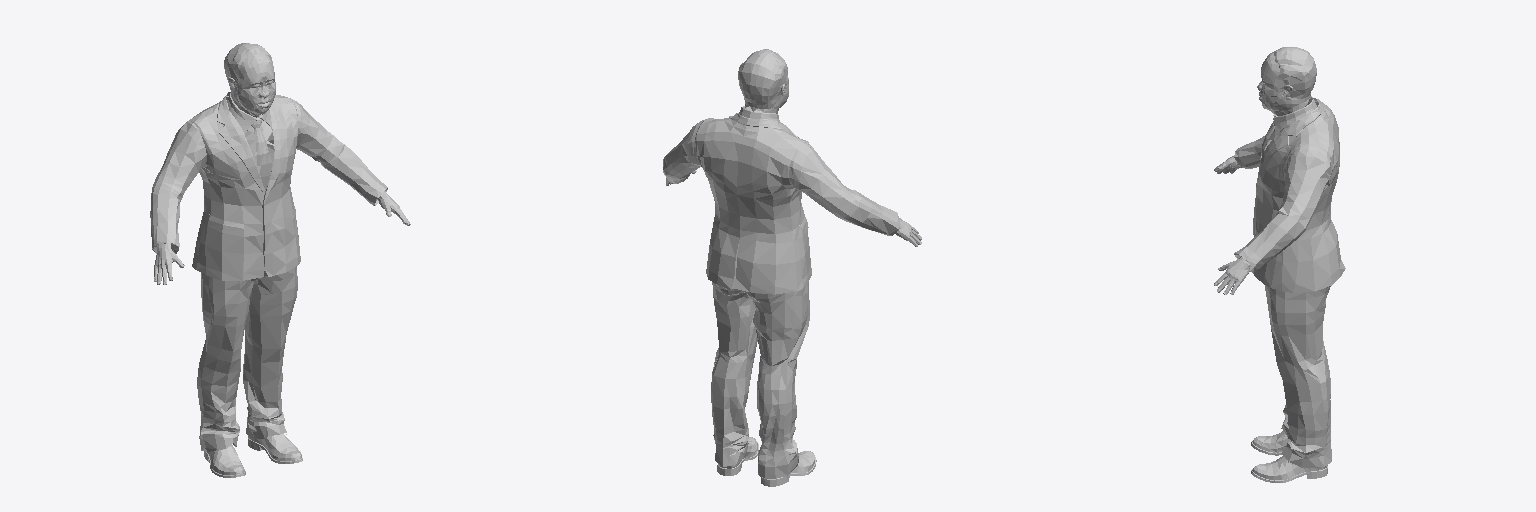
File: man_sim2_save正常.obj
3 renders of one model, left to right at view 1: azimuth 30°, elevation 25°; view 2: azimuth 150°, elevation 25°; view 3: azimuth 270°, elevation 25°, orthographic.
Bounding box in the file's own units: 10.39 × 16.34 × 4.69.